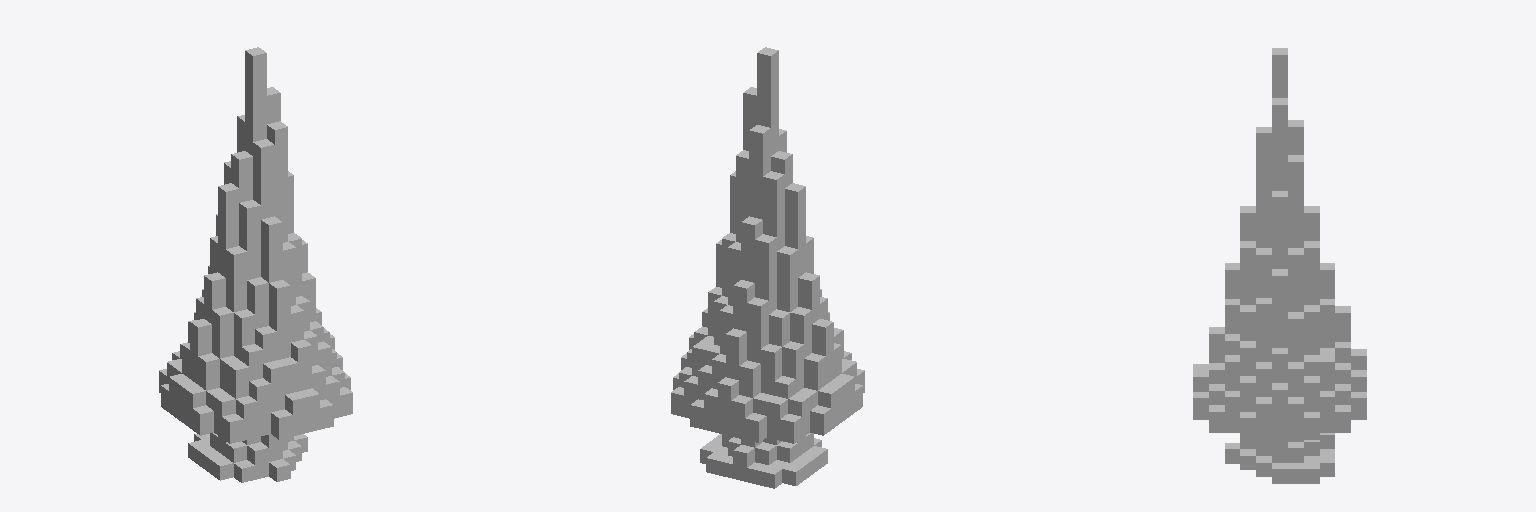
Rendered from Tree2.obj.
3 views of the same model, side by side, from view 1: azimuth 30°, elevation 25°; view 2: azimuth 150°, elevation 25°; view 3: azimuth 270°, elevation 25° (orthographic).
Parts seen in each view (by area): view 1: object 1; view 2: object 1; view 3: object 1.
Part boxes in pixels (left/top/right/bottom): object 1: left=159, top=47, right=352, bottom=482; object 1: left=671, top=47, right=864, bottom=488; object 1: left=1193, top=48, right=1366, bottom=483.
Size of the model in its own units: 2.2 by 5.7 by 2.2.